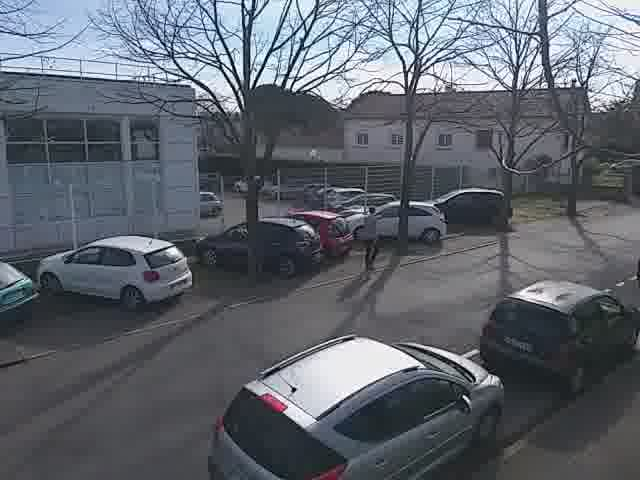persona: (353, 196, 388, 276)
